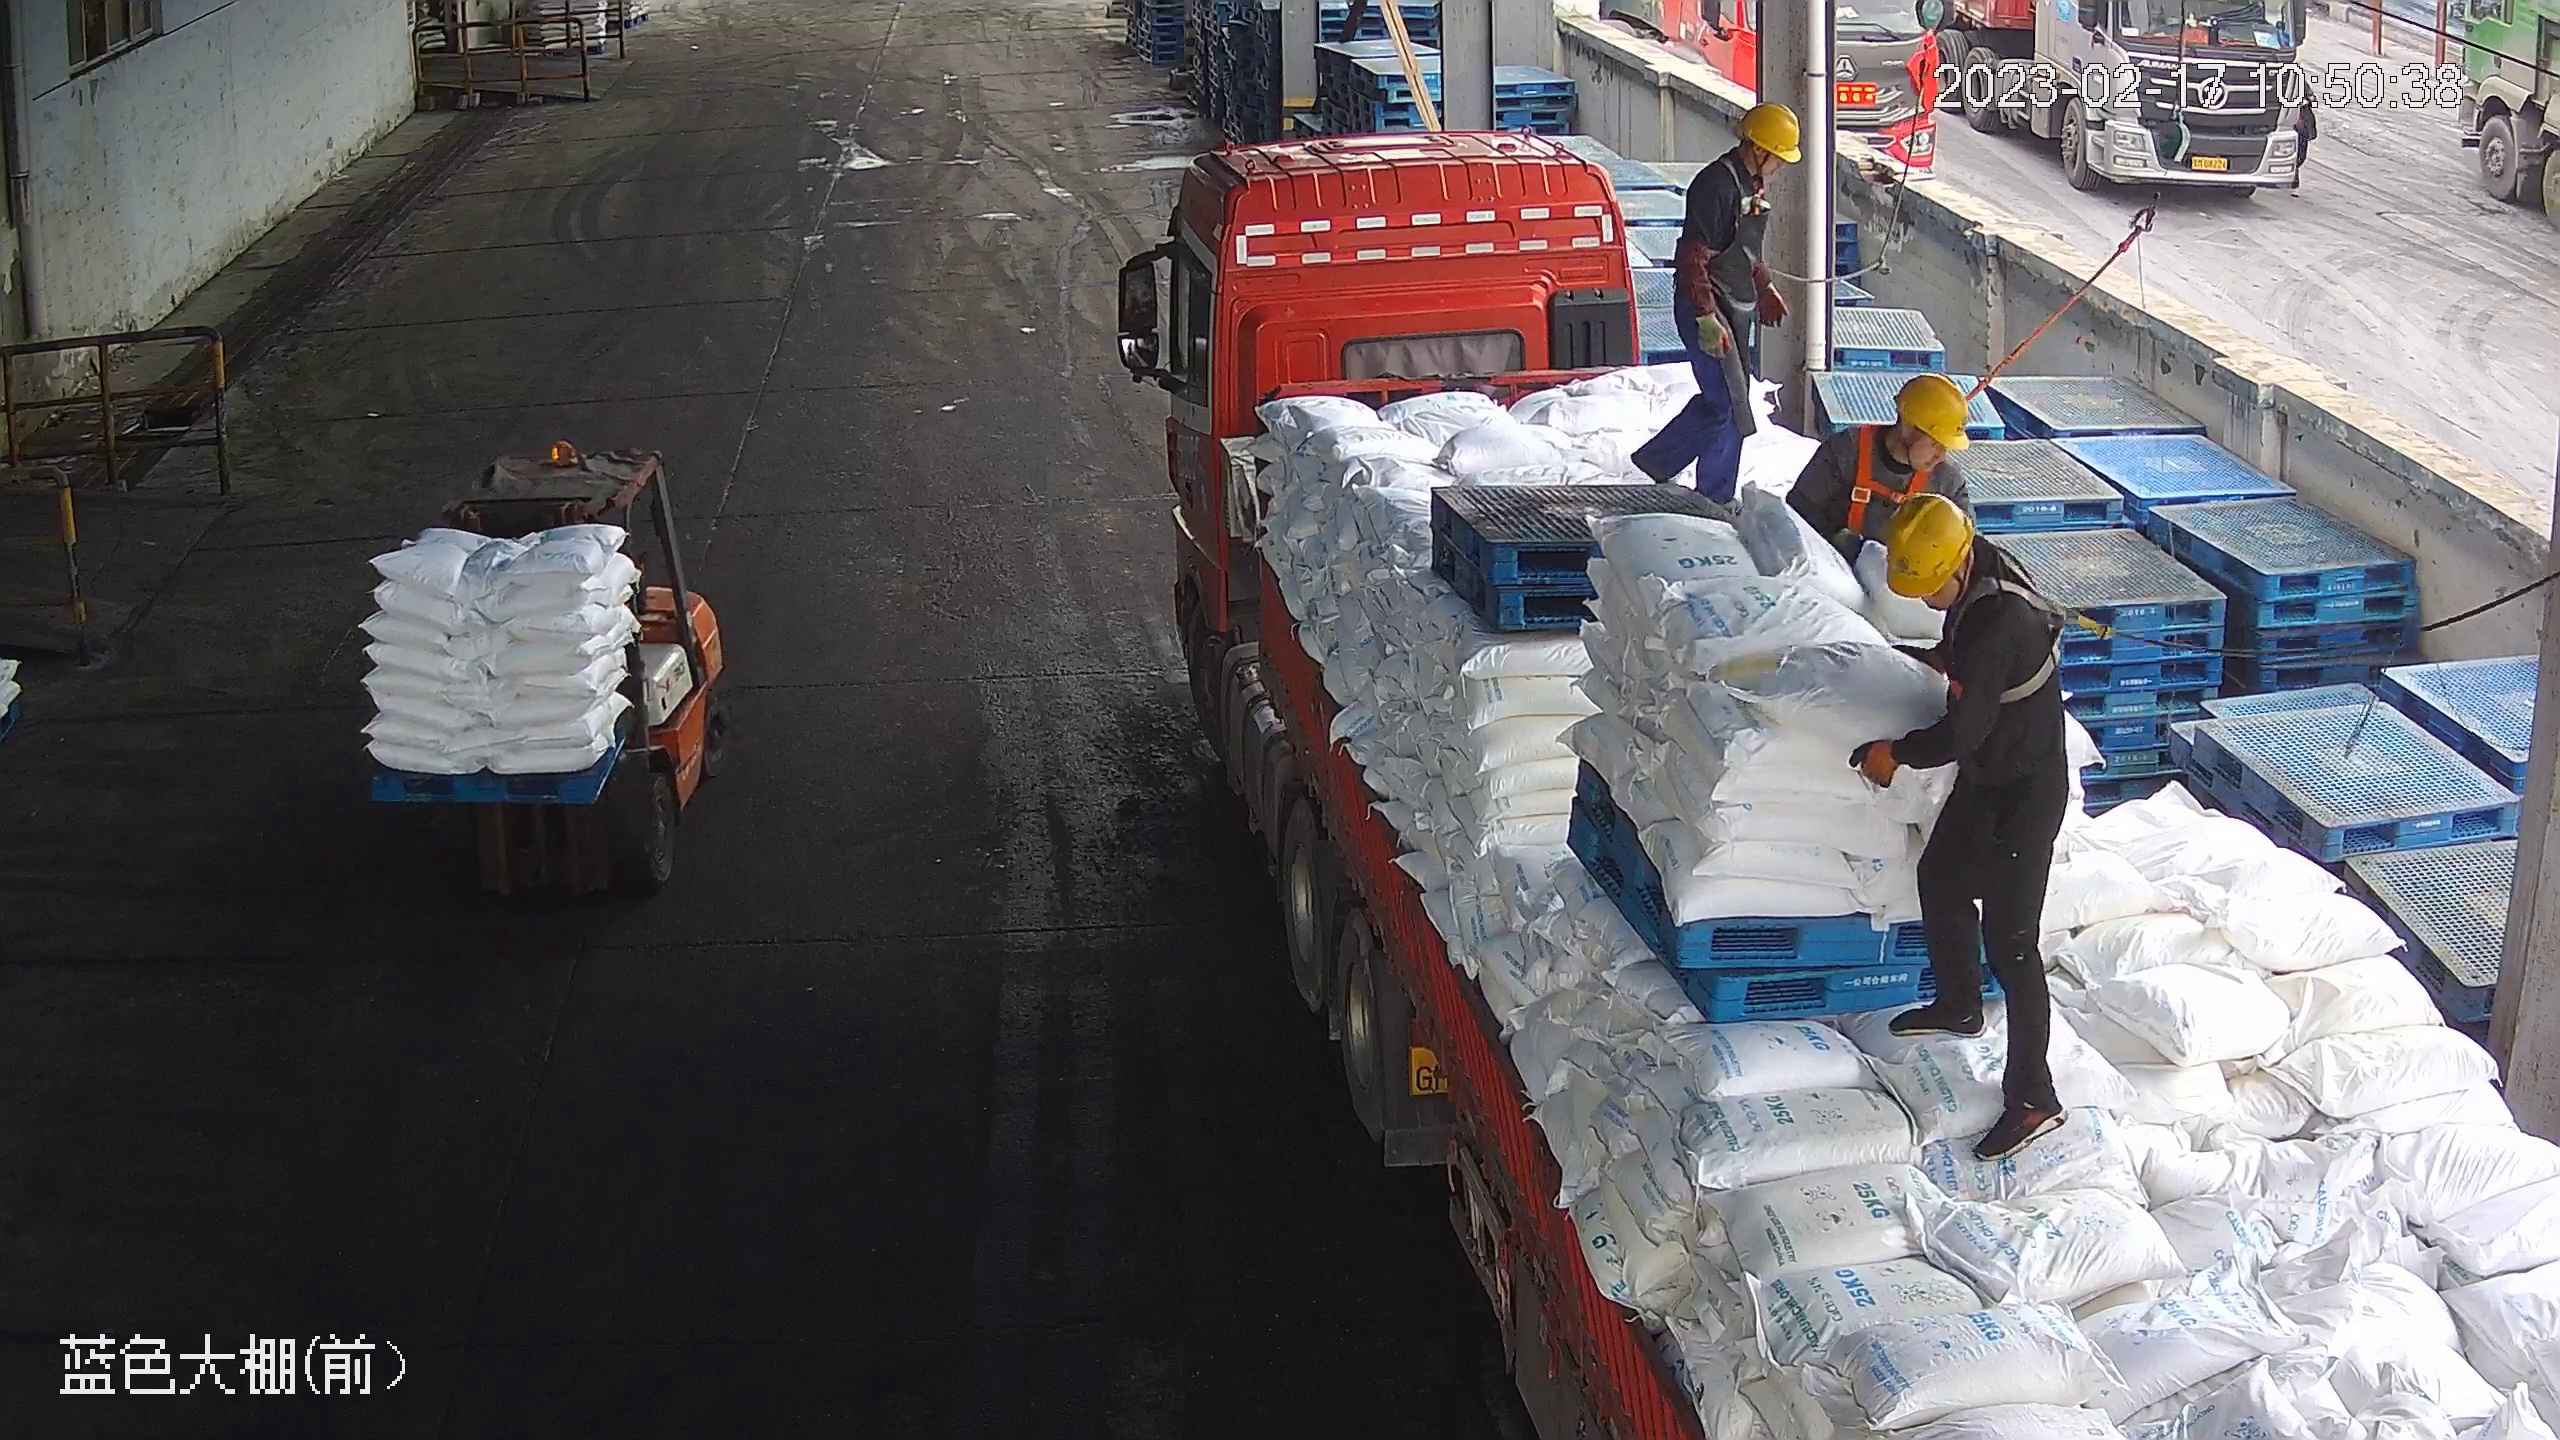belt: (1953, 557, 2095, 708), (1838, 421, 1935, 546), (1704, 154, 1785, 219)
head: (1883, 491, 2059, 664), (1811, 370, 1975, 493), (1675, 99, 1807, 220)
helmet: (1884, 493, 1976, 597), (1891, 370, 1973, 451), (1739, 101, 1807, 163)
people: (1853, 491, 2080, 1159), (1633, 97, 1809, 511)
truck: (1102, 134, 2558, 1436)
